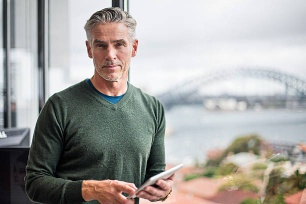male: (82, 11, 139, 84)
